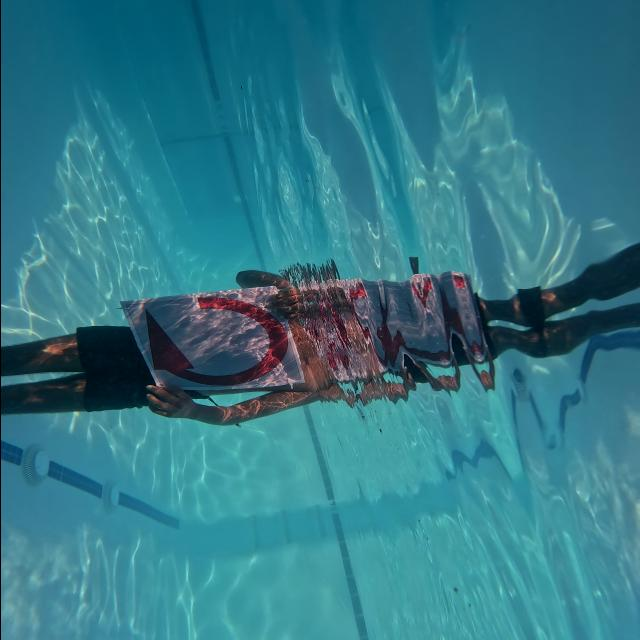red_side: (124, 284, 290, 404)
